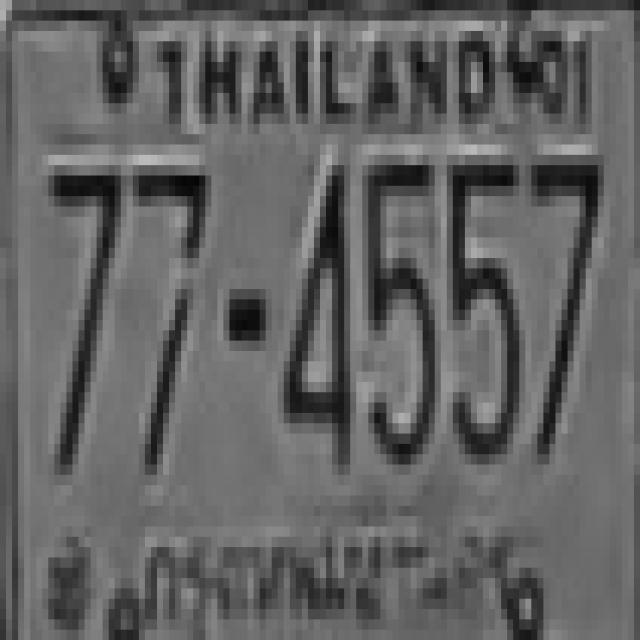4: (278, 160, 350, 459)
5: (362, 155, 435, 454), (447, 155, 519, 454)
7: (130, 160, 208, 470), (45, 155, 118, 464), (528, 155, 601, 454), (45, 160, 118, 428)
Bangkok: (133, 503, 515, 633)
